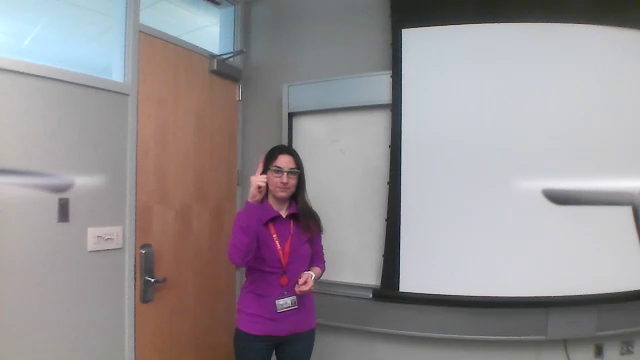up: (249, 156, 270, 202)
